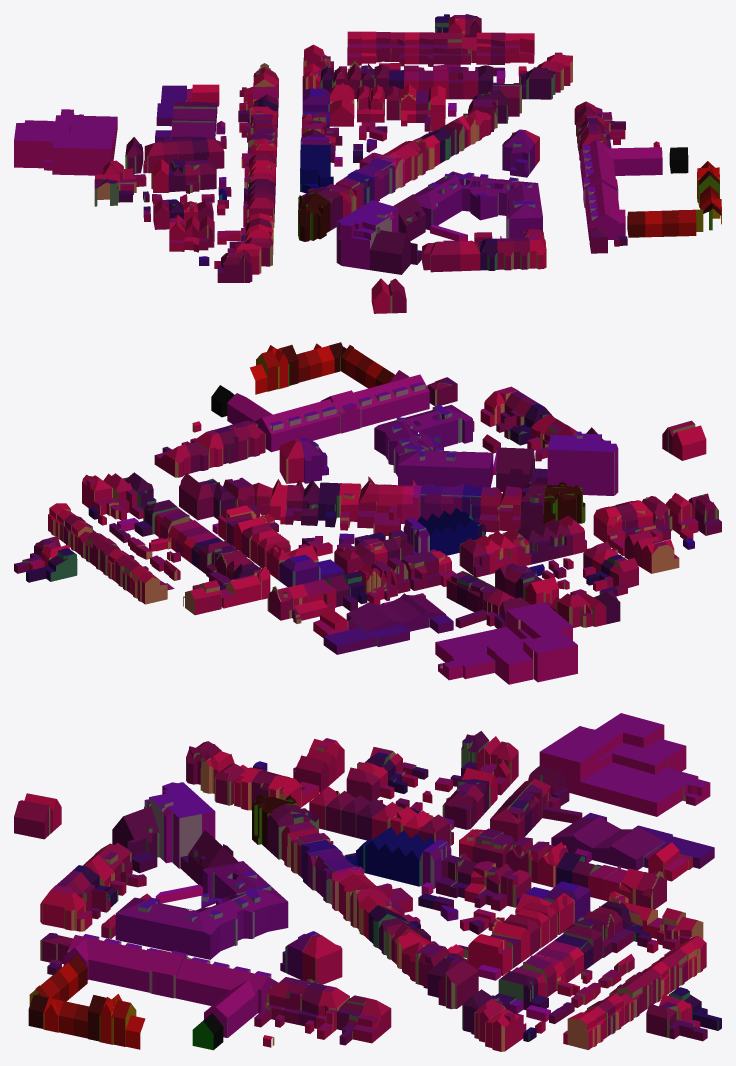
File: buildings_7_12.glb
3 views of the same model, one above another, from view 1: azimuth 30°, elevation 25°; view 2: azimuth 150°, elevation 25°; view 3: azimuth 270°, elevation 25° (orthographic). The views are drawn at different scales.
Visible parts, largest first — view 1: buildings_7_12; view 2: buildings_7_12; view 3: buildings_7_12.
Part boxes in pixels (x1,y1,x2,y2): buildings_7_12: [14, 14, 721, 313]; buildings_7_12: [14, 342, 721, 684]; buildings_7_12: [14, 713, 721, 1051].
Bounding box in the file's own units: 219 × 18.03 × 214.
